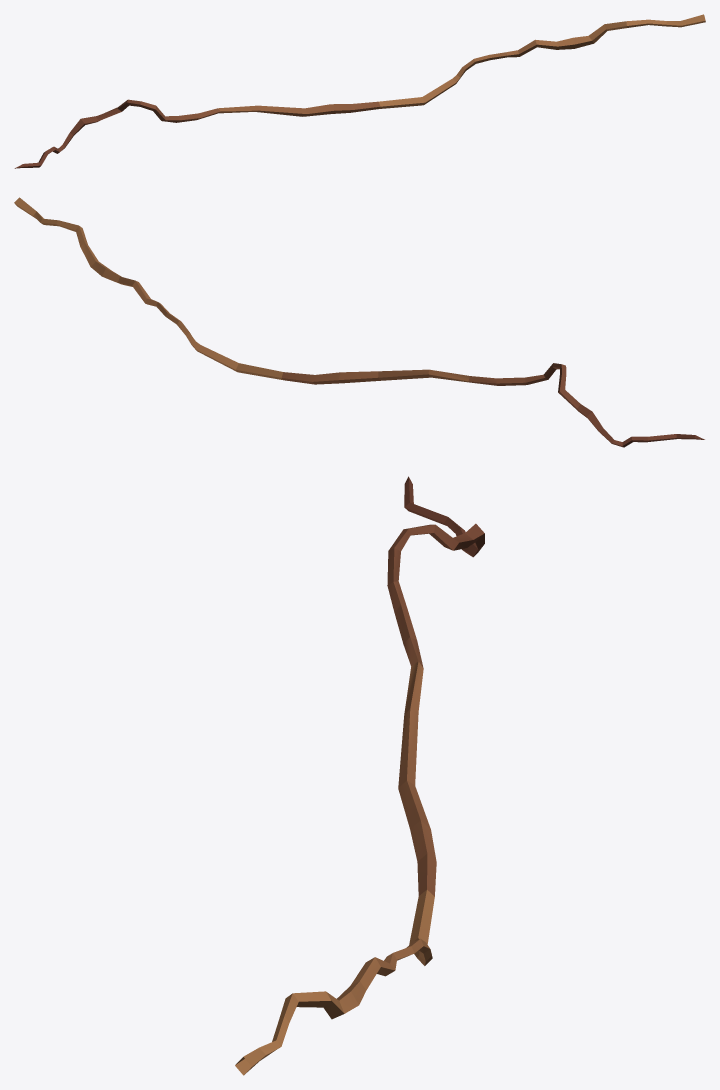
The model's file is ZLP_Plant_Vine_A_6.FBX.
3 views of the same model, one above another, from view 1: azimuth 30°, elevation 25°; view 2: azimuth 150°, elevation 25°; view 3: azimuth 270°, elevation 25° (orthographic). The views are drawn at different scales.
Parts seen in each view (by area): view 1: ZLP_Plant_Vine_A_6; view 2: ZLP_Plant_Vine_A_6; view 3: ZLP_Plant_Vine_A_6.
Part boxes in pixels (x1,y1,x2,y2): ZLP_Plant_Vine_A_6: (14,14,705,168); ZLP_Plant_Vine_A_6: (14,197,704,447); ZLP_Plant_Vine_A_6: (235,476,484,1075).
Size of the model in its own units: 1130 by 124 by 188.
